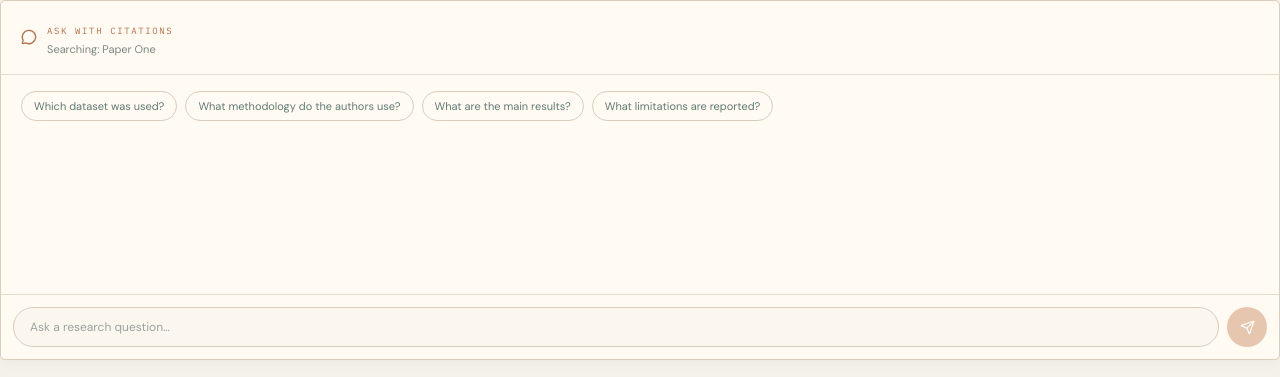
ChatPanel › shows the answer with source metadata for each evidence passage
This screenshot has width=1280, height=377.
Type "What recall?" into the field labelled "research question" at (616, 327), box [13,307,1219,347]
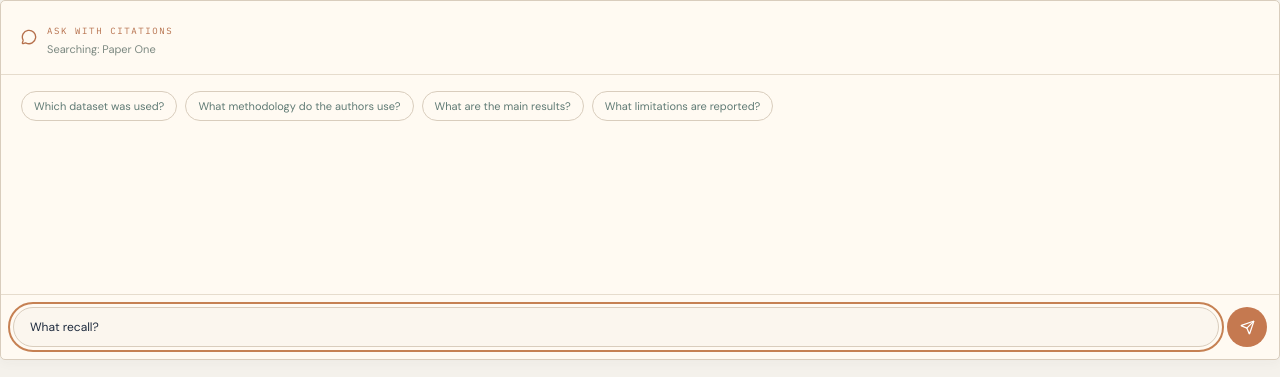
Click the button named "Send question" at (1247, 327), box [1227,307,1267,347]
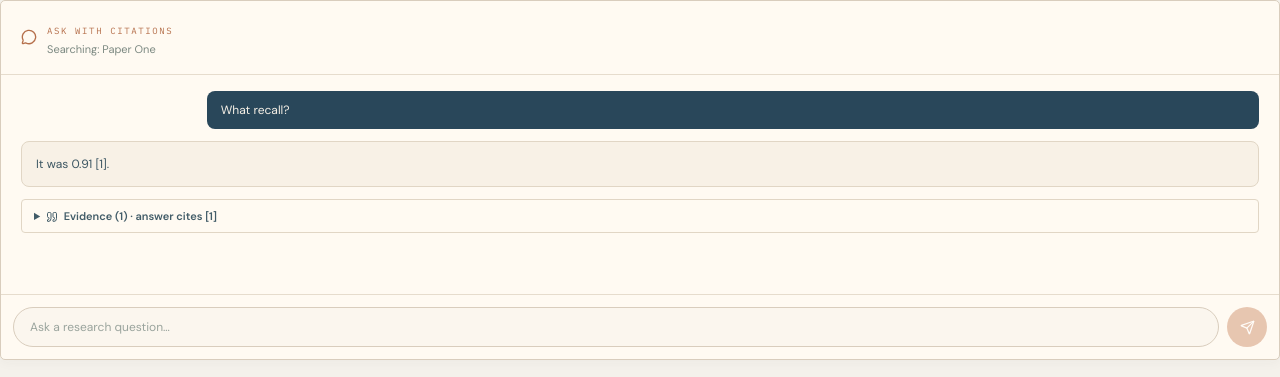
Expected: the text "It was 0.91 [1]." is shown, [21,140,1259,186]
